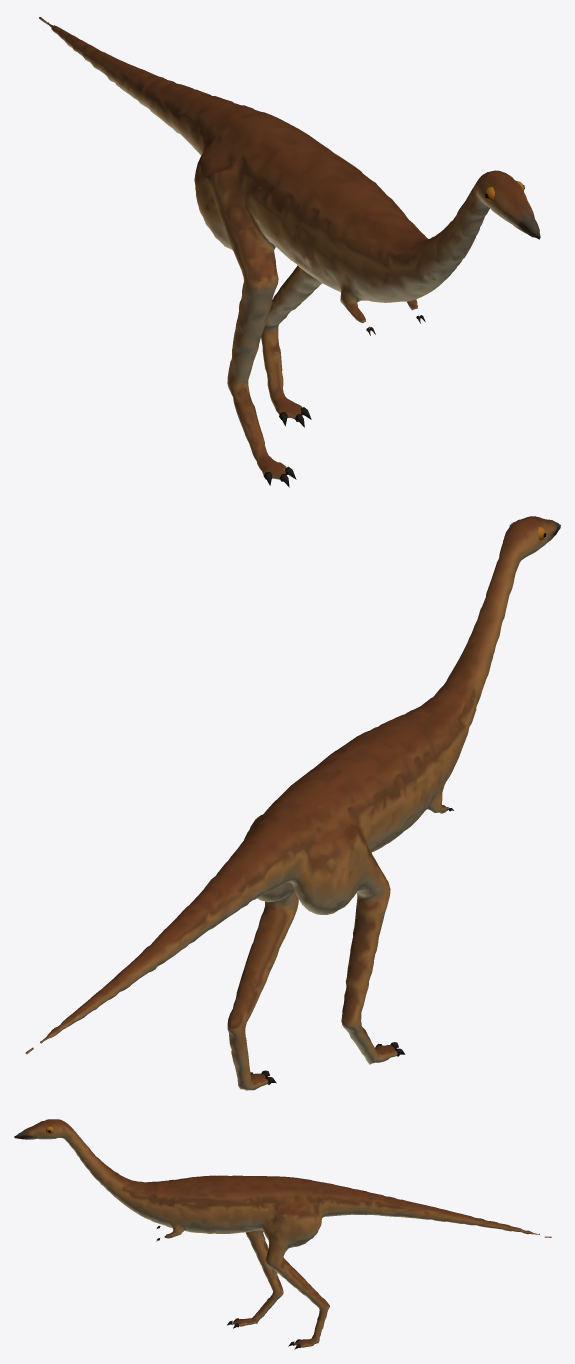
Rendered from Effigia.fbx.
3 views of the same model, one above another, from view 1: azimuth 30°, elevation 25°; view 2: azimuth 150°, elevation 25°; view 3: azimuth 270°, elevation 25° (orthographic). The views are drawn at different scales.
Parts seen in each view (by area): view 1: Effigia; view 2: Effigia; view 3: Effigia.
Boxes of the visible parts, x1,y1,x2,y2 form: Effigia: [39, 17, 540, 487]; Effigia: [25, 516, 560, 1090]; Effigia: [14, 1119, 551, 1349].
Bounding box in the file's own units: 0.2326 × 0.863 × 1.97.
